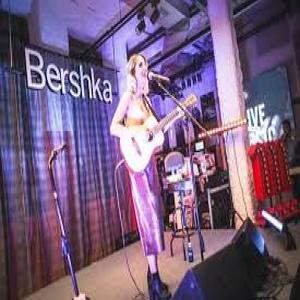bershka: (10, 44, 124, 119)
